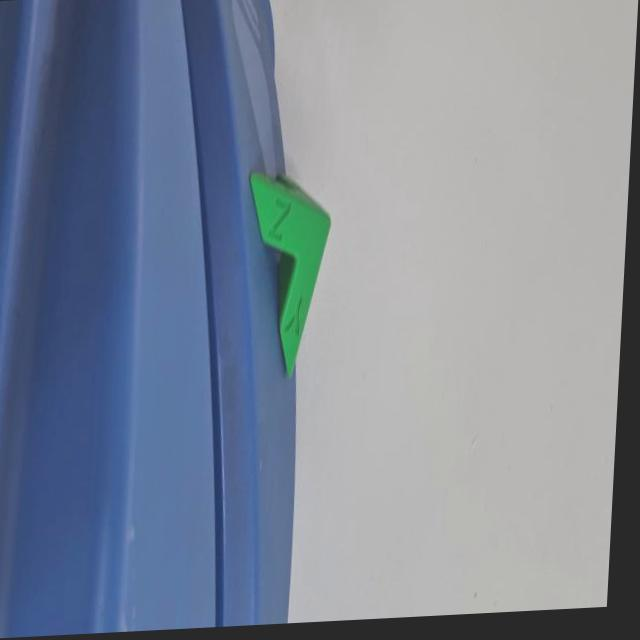eje: (237, 162, 336, 382)
